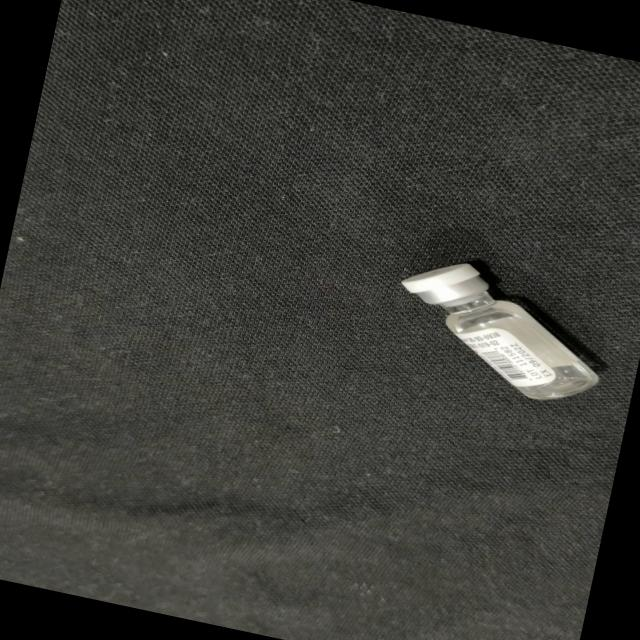fentanl_citrat: (386, 250, 614, 408)
